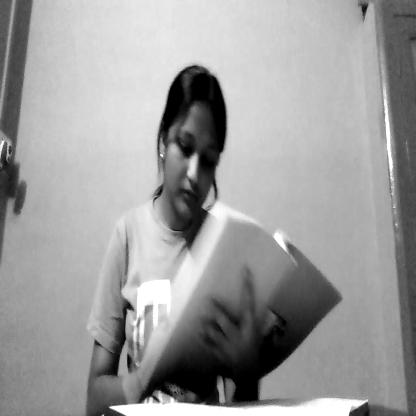Distracted: (155, 68, 236, 230)
